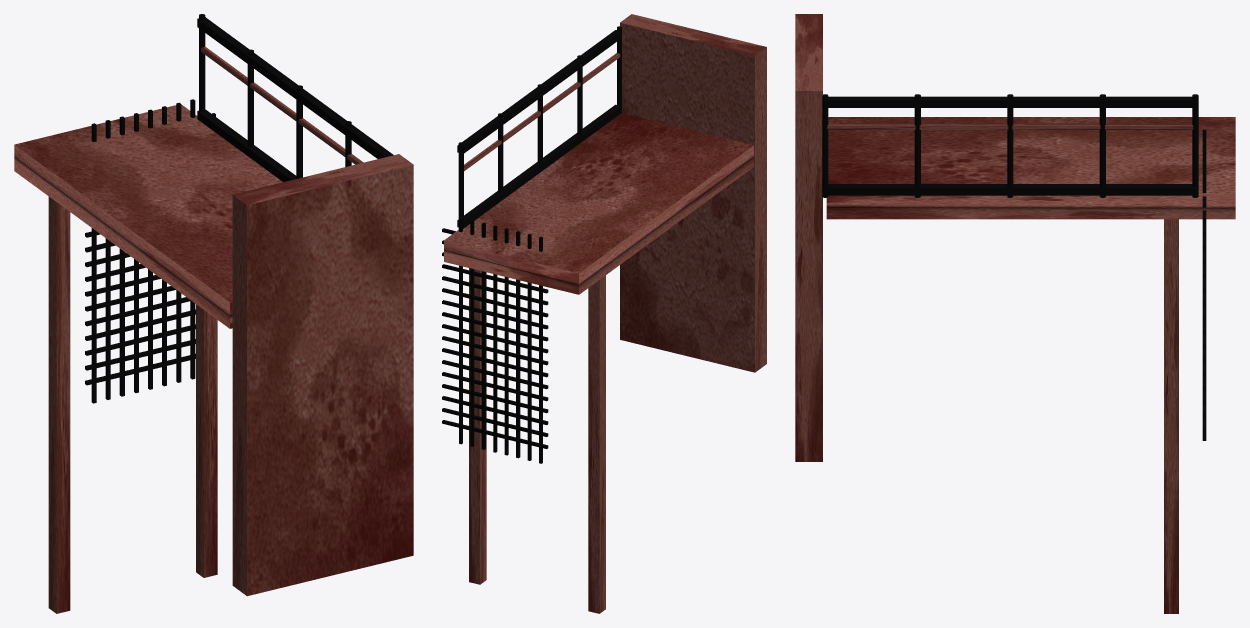
Rendered from littleHut.fbx.
The picture shows the model from 3 angles, left to right: view 1: azimuth 30°, elevation 25°; view 2: azimuth 150°, elevation 25°; view 3: azimuth 270°, elevation 25°; orthographic projection. The views are drawn at different scales.
Visible parts, largest first — view 1: Cube.002, Cube.003, Cube.009, Cube.005, Cube.004, Cube.022, Cylinder.051, fence.001, Cube.019; view 2: Cube.002, Cube.003, Cube.009, Cube.005, Cube.004, Cube.022, fence.001, Cylinder.051, Cube.019; view 3: Cube.003, Cube.002, Cube.004, fence.001, Cube.022, Cylinder.051, Cube.019, Cube.009.
Part boxes in pixels (<box>): Cube.002: <box>232,154,413,596</box>; Cube.003: <box>14,104,282,328</box>; Cube.009: <box>85,99,215,403</box>; Cube.005: <box>48,196,70,613</box>; Cube.004: <box>196,304,217,577</box>; Cube.022: <box>197,17,393,158</box>; Cylinder.051: <box>199,14,351,178</box>; fence.001: <box>197,109,296,181</box>; Cube.019: <box>201,46,363,164</box>; Cube.002: <box>620,14,766,372</box>; Cube.003: <box>444,113,753,294</box>; Cube.009: <box>442,217,548,463</box>; Cube.005: <box>588,275,605,613</box>; Cube.004: <box>469,268,486,584</box>; Cube.022: <box>457,30,621,153</box>; fence.001: <box>457,104,621,228</box>; Cylinder.051: <box>458,26,621,229</box>; Cube.019: <box>464,53,620,170</box>; Cube.003: <box>826,117,1235,219</box>; Cube.002: <box>795,14,822,461</box>; Cube.004: <box>1164,219,1178,613</box>; fence.001: <box>827,184,1197,195</box>; Cube.022: <box>827,96,1197,107</box>; Cylinder.051: <box>822,94,1198,197</box>; Cube.019: <box>827,123,1193,129</box>; Cube.009: <box>1202,129,1206,440</box>.
Size of the model in its own units: 483 by 633 by 221.
Materials: 2 (1 with a texture image).
